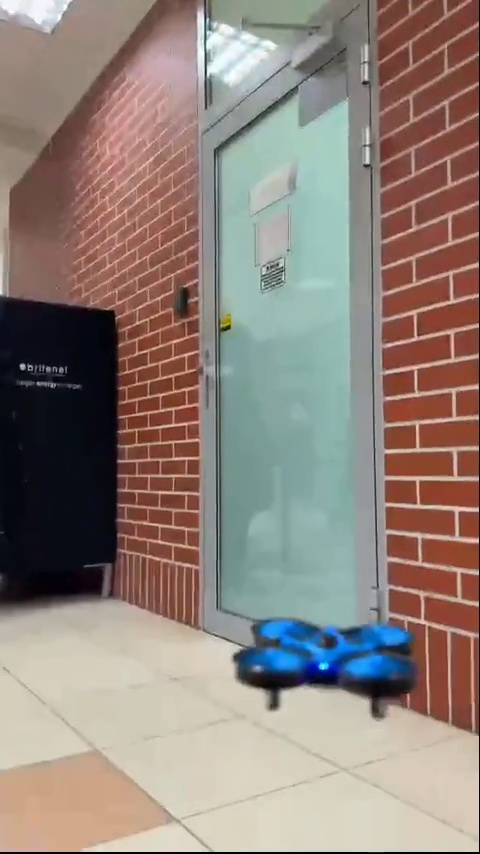drone: (233, 614, 420, 724)
